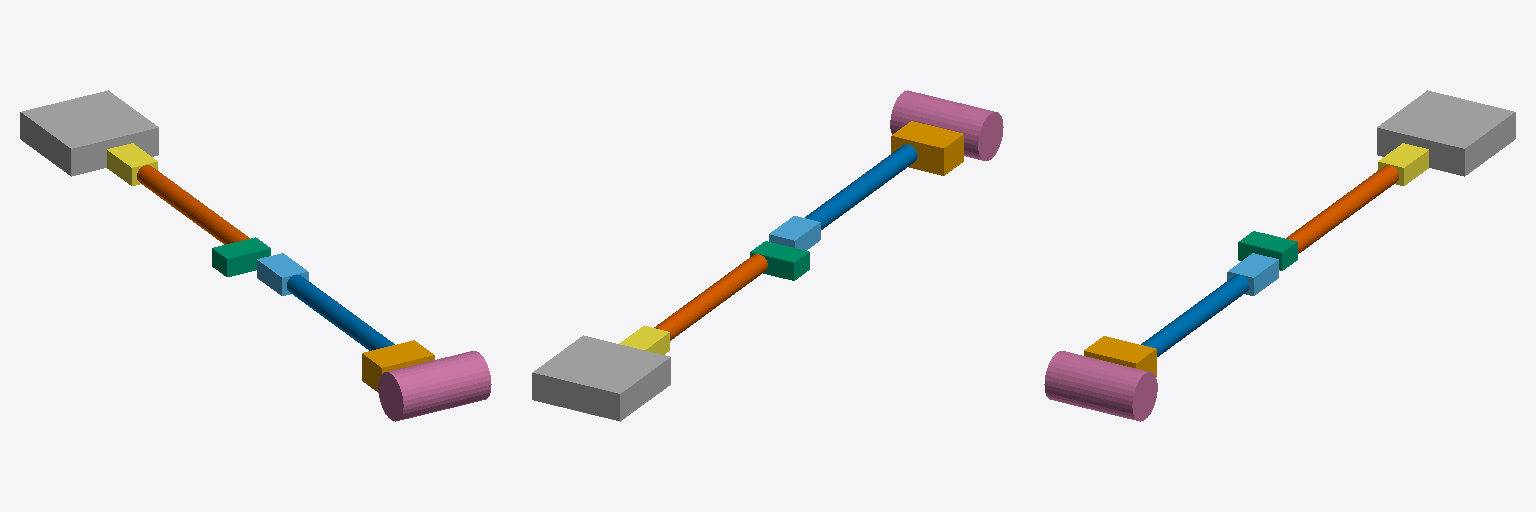
robot.urdf — simple_movel_arm:
<?xml version="1.0" encoding="utf-8"?>
<!-- =================================================================================== -->
<!-- |    This document was autogenerated by xacro from model.urdf.xacro               | -->
<!-- |    EDITING THIS FILE BY HAND IS NOT RECOMMENDED                                 | -->
<!-- =================================================================================== -->
<robot name="simple_movel_arm" xmlns:xacro="http://www.ros.org/wiki/xacro">
  <link name="Box0_link">
    <visual>
      <geometry>
        <box size="0.06 0.04 0.03"/>
      </geometry>
      <origin rpy="0 0 0" xyz="-0.01 0.055 0"/>
    </visual>
    <collision>
      <origin rpy="0 0 0" xyz="-0.01 0.055 0"/>
      <geometry>
        <box size="0.06 0.04 0.03"/>
      </geometry>
    </collision>
    <inertial>
      <origin rpy="0 0 0" xyz="-0.01 0.055 0"/>
      <mass value="0.3"/>
      <inertia ixx="6.25e-05" ixy="0.0" ixz="0.0" iyy="0.0001125" iyz="0.0" izz="0.00013"/>
    </inertial>
  </link>
  <link name="Box1_link">
    <visual>
      <geometry>
        <box size="0.03 0.05 0.02"/>
      </geometry>
      <origin rpy="0 0 0" xyz="0 0.025 0"/>
    </visual>
    <collision>
      <origin rpy="0 0 0" xyz="0 0.025 0"/>
      <geometry>
        <box size="0.03 0.05 0.02"/>
      </geometry>
    </collision>
    <inertial>
      <origin rpy="0 0 0" xyz="0 0.025 0"/>
      <mass value="0.3"/>
      <inertia ixx="7.25e-05" ixy="0.0" ixz="0.0" iyy="3.25e-05" iyz="0.0" izz="8.5e-05"/>
    </inertial>
  </link>
  <link name="Box2_link">
    <visual>
      <geometry>
        <box size="0.05 0.03 0.02"/>
      </geometry>
      <origin rpy="0 0 0" xyz="-0.015 0.04 0"/>
    </visual>
    <collision>
      <origin rpy="0 0 0" xyz="-0.015 0.04 0"/>
      <geometry>
        <box size="0.05 0.03 0.02"/>
      </geometry>
    </collision>
    <inertial>
      <origin rpy="0 0 0" xyz="-0.015 0.04 0"/>
      <mass value="0.3"/>
      <inertia ixx="3.25e-05" ixy="0.0" ixz="0.0" iyy="7.25e-05" iyz="0.0" izz="8.5e-05"/>
    </inertial>
  </link>
  <link name="Box3_link">
    <visual>
      <geometry>
        <box size="0.03 0.05 0.02"/>
      </geometry>
      <origin rpy="0 0 0" xyz="0 0.026 0"/>
    </visual>
    <collision>
      <origin rpy="0 0 0" xyz="0 0.026 0"/>
      <geometry>
        <box size="0.03 0.05 0.02"/>
      </geometry>
    </collision>
    <inertial>
      <origin rpy="0 0 0" xyz="0 0.026 0"/>
      <mass value="0.3"/>
      <inertia ixx="7.25e-05" ixy="0.0" ixz="0.0" iyy="3.25e-05" iyz="0.0" izz="8.5e-05"/>
    </inertial>
  </link>
  <link name="Tube0_link">
    <visual>
      <geometry>
        <cylinder length="0.2" radius="0.01"/>
      </geometry>
      <origin rpy="1.57075 0 0" xyz="0 0.1 0"/>
    </visual>
    <collision>
      <origin rpy="1.57075 0 0" xyz="0 0.1 0"/>
      <geometry>
        <cylinder length="0.2" radius="0.01"/>
      </geometry>
    </collision>
    <inertial>
      <origin rpy="1.57075 0 0" xyz="0 0.1 0"/>
      <mass value="0.1"/>
      <inertia ixx="0.000335833333333" ixy="0" ixz="0" iyy="5e-06" iyz="0" izz="0.000335833333333"/>
    </inertial>
  </link>
  <link name="Tube1_link">
    <visual>
      <geometry>
        <cylinder length="0.2" radius="0.01"/>
      </geometry>
      <origin rpy="1.57075 0 0" xyz="0 0.1 0"/>
    </visual>
    <collision>
      <origin rpy="1.57075 0 0" xyz="0 0.1 0"/>
      <geometry>
        <cylinder length="0.2" radius="0.01"/>
      </geometry>
    </collision>
    <inertial>
      <origin rpy="1.57075 0 0" xyz="0 0.1 0"/>
      <mass value="0.1"/>
      <inertia ixx="0.000335833333333" ixy="0" ixz="0" iyy="5e-06" iyz="0" izz="0.000335833333333"/>
    </inertial>
  </link>
  <link name="ombro_link">
    <visual>
      <geometry>
        <cylinder length="0.1" radius="0.025"/>
      </geometry>
      <origin rpy="0 1.57075 0"/>
    </visual>
    <collision>
      <origin rpy="0 1.57075 0"/>
      <geometry>
        <cylinder length="0.1" radius="0.025"/>
      </geometry>
    </collision>
    <inertial>
      <origin rpy="0 1.57075 0"/>
      <mass value="0.5"/>
      <inertia ixx="0.000494791666667" ixy="0" ixz="0" iyy="0.00015625" iyz="0" izz="0.000494791666667"/>
    </inertial>
  </link>
  <link name="gripper_link">
    <visual>
      <geometry>
        <box size="0.1 0.1 0.03"/>
      </geometry>
      <origin xyz="0 0.07 0"/>
    </visual>
    <collision>
      <origin xyz="0 0.07 0"/>
      <geometry>
        <box size="0.1 0.1 0.03"/>
      </geometry>
    </collision>
    <inertial>
      <origin xyz="0 0.07 0"/>
      <mass value="0.3"/>
      <inertia ixx="0.0002725" ixy="0.0" ixz="0.0" iyy="0.0002725" iyz="0.0" izz="0.0005"/>
    </inertial>
  </link>
  <!-- Revolute Joints -->
  <joint name="joint1" type="revolute">
    <parent link="ombro_link"/>
    <child link="Box0_link"/>
    <origin xyz="0 0 0"/>
    <limit effort="1000" lower="-1.57075" upper="1.57075" velocity="10"/>
    <axis xyz="1 0 0"/>
  </joint>
  <joint name="joint2" type="revolute">
    <parent link="Box0_link"/>
    <child link="Tube0_link"/>
    <origin xyz="0 0.075 0"/>
    <limit effort="1000" lower="-1.57075" upper="1.57075" velocity="10"/>
    <axis xyz="0 1 0"/>
  </joint>
  <joint name="joint4" type="revolute">
    <parent link="Box1_link"/>
    <child link="Box2_link"/>
    <origin xyz="0 0.04 0"/>
    <limit effort="1000" lower="-3.14" upper="3.14" velocity="10"/>
    <axis xyz="1 0 0"/>
  </joint>
  <joint name="joint5" type="revolute">
    <parent link="Box2_link"/>
    <child link="Tube1_link"/>
    <origin xyz="0 0.055 0"/>
    <limit effort="1000" lower="-3.14" upper="3.14" velocity="10"/>
    <axis xyz="0 1 0"/>
  </joint>
  <joint name="joint7" type="revolute">
    <parent link="Box3_link"/>
    <child link="gripper_link"/>
    <origin xyz="0 0.04 0"/>
    <limit effort="1000" lower="-1.57075" upper="1.57075" velocity="10"/>
    <axis xyz="1 0 0"/>
  </joint>
  <!-- Fixed joints -->
  <joint name="joint3" type="fixed">
    <parent link="Tube1_link"/>
    <child link="Box3_link"/>
    <origin xyz="0 0.2 0"/>
  </joint>
  <joint name="joint6" type="fixed">
    <parent link="Tube0_link"/>
    <child link="Box1_link"/>
    <origin xyz="0 0.2 0"/>
  </joint>
  <transmission name="joint1_trans">
    <type>transmission_interface/SimpleTransmission</type>
    <joint name="joint1">
      <hardwareInterface>hardware_interface/VelocityJointInterface</hardwareInterface>
    </joint>
    <actuator name="joint1_motor">
      <mechanicalReduction>1</mechanicalReduction>
      <hardwareInterface>hardware_interface/VelocityJointInterface</hardwareInterface>
    </actuator>
  </transmission>
  <transmission name="joint2_trans">
    <type>transmission_interface/SimpleTransmission</type>
    <joint name="joint2">
      <hardwareInterface>hardware_interface/VelocityJointInterface</hardwareInterface>
    </joint>
    <actuator name="joint2_motor">
      <mechanicalReduction>1</mechanicalReduction>
      <hardwareInterface>hardware_interface/VelocityJointInterface</hardwareInterface>
    </actuator>
  </transmission>
  <transmission name="joint4_trans">
    <type>transmission_interface/SimpleTransmission</type>
    <joint name="joint4">
      <hardwareInterface>hardware_interface/VelocityJointInterface</hardwareInterface>
    </joint>
    <actuator name="joint4_motor">
      <mechanicalReduction>1</mechanicalReduction>
      <hardwareInterface>hardware_interface/VelocityJointInterface</hardwareInterface>
    </actuator>
  </transmission>
  <transmission name="joint5_trans">
    <type>transmission_interface/SimpleTransmission</type>
    <joint name="joint5">
      <hardwareInterface>hardware_interface/VelocityJointInterface</hardwareInterface>
    </joint>
    <actuator name="joint5_motor">
      <mechanicalReduction>1</mechanicalReduction>
      <hardwareInterface>hardware_interface/VelocityJointInterface</hardwareInterface>
    </actuator>
  </transmission>
  <transmission name="joint7_trans">
    <type>transmission_interface/SimpleTransmission</type>
    <joint name="joint7">
      <hardwareInterface>hardware_interface/VelocityJointInterface</hardwareInterface>
    </joint>
    <actuator name="joint7_motor">
      <mechanicalReduction>1</mechanicalReduction>
      <hardwareInterface>hardware_interface/VelocityJointInterface</hardwareInterface>
    </actuator>
  </transmission>
  <!-- Gazebo plugin -->
  <gazebo>
    <plugin filename="libgazebo_ros_control.so" name="gazebo_ros_control">
      <robotNamespace>/robotic_arm</robotNamespace>
      <!-- namespace for controllers etc... -->
    </plugin>
  </gazebo>
  <!-- GAZEBO COLORS -->
  <gazebo reference="wall_link">
    <visual>
      <material>
        <ambient>0.4 0.7 0.4 0.6</ambient>
        <diffuse>0.4 0.7 0.4 0.6</diffuse>
        <specular>0.4 0.7 0.4 0.6</specular>
        <emissive>0.0 0.0 0.0 0.0</emissive>
      </material>
    </visual>
  </gazebo>
  <gazebo reference="ombro_link">
    <visual>
      <material>
        <ambient>0.6 0.6 0.6 1.0</ambient>
        <diffuse>0.6 0.6 0.6 1.0</diffuse>
        <specular>0.6 0.6 0.6 1.0</specular>
        <emissive>0.0 0.0 0.0 0.0</emissive>
      </material>
    </visual>
  </gazebo>
  <gazebo reference="gripper_link">
    <visual>
      <material>
        <ambient>0.4 0.4 0.7 1.0</ambient>
        <diffuse>0.4 0.4 0.7 1.0</diffuse>
        <specular>0.4 0.4 0.7 1.0</specular>
        <emissive>0.0 0.0 0.0 0.0</emissive>
      </material>
    </visual>
  </gazebo>
  <gazebo reference="Box0_link">
    <visual>
      <material>
        <ambient>0 0 0 1.0</ambient>
        <diffuse>0 0 0 1.0</diffuse>
        <specular>0 0 0 1.0</specular>
        <emissive>0.0 0.0 0.0 0.0</emissive>
      </material>
    </visual>
  </gazebo>
  <gazebo reference="Box1_link">
    <visual>
      <material>
        <ambient>0 0 0 1.0</ambient>
        <diffuse>0 0 0 1.0</diffuse>
        <specular>0 0 0 1.0</specular>
        <emissive>0.0 0.0 0.0 0.0</emissive>
      </material>
    </visual>
  </gazebo>
  <gazebo reference="Box2_link">
    <visual>
      <material>
        <ambient>0 0 0 1.0</ambient>
        <diffuse>0 0 0 1.0</diffuse>
        <specular>0 0 0 1.0</specular>
        <emissive>0.0 0.0 0.0 0.0</emissive>
      </material>
    </visual>
  </gazebo>
  <gazebo reference="Box3_link">
    <visual>
      <material>
        <ambient>0 0 0 1.0</ambient>
        <diffuse>0 0 0 1.0</diffuse>
        <specular>0 0 0 1.0</specular>
        <emissive>0.0 0.0 0.0 0.0</emissive>
      </material>
    </visual>
  </gazebo>
  <gazebo reference="Tube0_link">
    <visual>
      <material>
        <ambient>0.7 0.3 0.3 1.0</ambient>
        <diffuse>0.7 0.3 0.3 1.0</diffuse>
        <specular>0.7 0.3 0.3 1.0</specular>
        <emissive>0.0 0.0 0.0 0.0</emissive>
      </material>
    </visual>
  </gazebo>
  <gazebo reference="Tube1_link">
    <visual>
      <material>
        <ambient>0.7 0.3 0.3 1.0</ambient>
        <diffuse>0.7 0.3 0.3 1.0</diffuse>
        <specular>0.7 0.3 0.3 1.0</specular>
        <emissive>0.0 0.0 0.0 0.0</emissive>
      </material>
    </visual>
  </gazebo>
  <!-- Didn't work
	<xacro:macro name="gazebo_propertys" params="link_name">
		<gazebo reference="${link_name}">
			<turnGravityOff>true</turnGravityOff>
		</gazebo>
    </xacro:macro>
    <xacro:gazebo_propertys link_name="Box0_link" />
    <xacro:gazebo_propertys link_name="Box1_link" />
    <xacro:gazebo_propertys link_name="Box2_link" />
    <xacro:gazebo_propertys link_name="Box3_link" />
    <xacro:gazebo_propertys link_name="Box4_link" />
    <xacro:gazebo_propertys link_name="Tube0_link" />
    <xacro:gazebo_propertys link_name="Tube1_link" />
    <xacro:gazebo_propertys link_name="wall_link" />
    <xacro:gazebo_propertys link_name="ombro_link" />
    <xacro:gazebo_propertys link_name="gripper_link" />
    -->
</robot>

--- What the picture shows (computed from the rendered views, not written in the file) ---
3 views of the same robot in one strip: view 1: azimuth 30°, elevation 25°; view 2: azimuth 150°, elevation 25°; view 3: azimuth 330°, elevation 25° (orthographic).
Robot: simple_movel_arm — 8 links, 7 joints (5 revolute, 2 fixed); root link ombro_link; default pose: every joint at zero.
Links seen in each view (by area): view 1: gripper_link, ombro_link, Tube1_link, Tube0_link, Box0_link, Box2_link, Box1_link, Box3_link; view 2: gripper_link, ombro_link, Box0_link, Tube1_link, Tube0_link, Box2_link, Box1_link, Box3_link; view 3: gripper_link, ombro_link, Tube1_link, Tube0_link, Box0_link, Box2_link, Box1_link, Box3_link.
Boxes of the visible links, bbox=[...] form: gripper_link: bbox=[20, 90, 158, 176]; ombro_link: bbox=[378, 351, 491, 421]; Tube1_link: bbox=[137, 165, 249, 244]; Tube0_link: bbox=[287, 275, 394, 350]; Box0_link: bbox=[362, 340, 434, 392]; Box2_link: bbox=[212, 237, 270, 276]; Box1_link: bbox=[257, 253, 308, 295]; Box3_link: bbox=[107, 143, 157, 185]; gripper_link: bbox=[532, 335, 670, 421]; ombro_link: bbox=[890, 90, 1003, 160]; Box0_link: bbox=[891, 121, 963, 175]; Tube1_link: bbox=[654, 254, 767, 340]; Tube0_link: bbox=[805, 144, 917, 229]; Box2_link: bbox=[750, 241, 809, 280]; Box1_link: bbox=[769, 216, 820, 250]; Box3_link: bbox=[619, 326, 669, 354]; gripper_link: bbox=[1377, 90, 1515, 176]; ombro_link: bbox=[1044, 351, 1157, 421]; Tube1_link: bbox=[1286, 165, 1398, 253]; Tube0_link: bbox=[1141, 275, 1248, 356]; Box0_link: bbox=[1084, 336, 1156, 376]; Box2_link: bbox=[1238, 231, 1297, 270]; Box1_link: bbox=[1227, 253, 1278, 295]; Box3_link: bbox=[1378, 143, 1428, 185].
Bounding box of the posed robot: 0.1 × 0.755 × 0.05 m (x, y, z).
Geometry: primitives only (box / cylinder / sphere), no mesh files.
